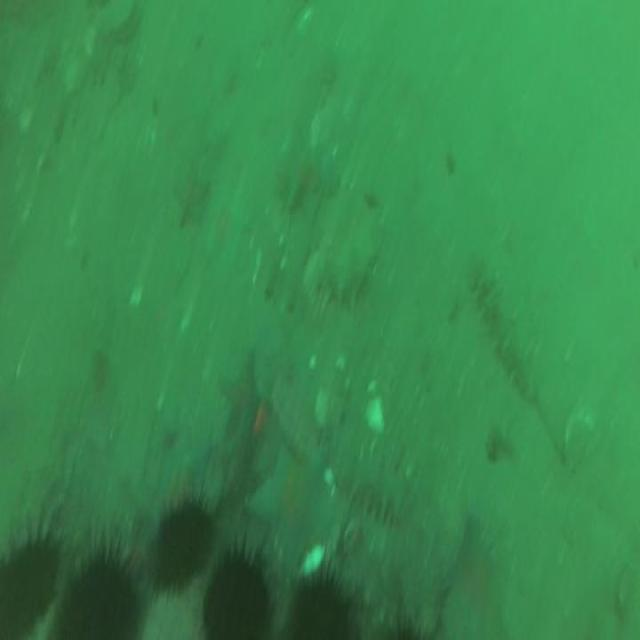echinus: (59, 562, 140, 640), (203, 553, 272, 635), (1, 545, 57, 640), (153, 506, 211, 591), (286, 583, 352, 640)
holothurian: (466, 256, 540, 400), (337, 455, 411, 529), (311, 248, 365, 304)
scallop: (562, 403, 594, 468)
starfish: (252, 439, 335, 553), (156, 436, 212, 509), (218, 352, 260, 434)
